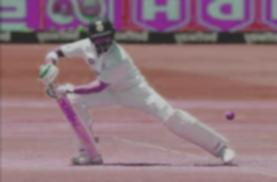batsman: (18, 4, 270, 178)
